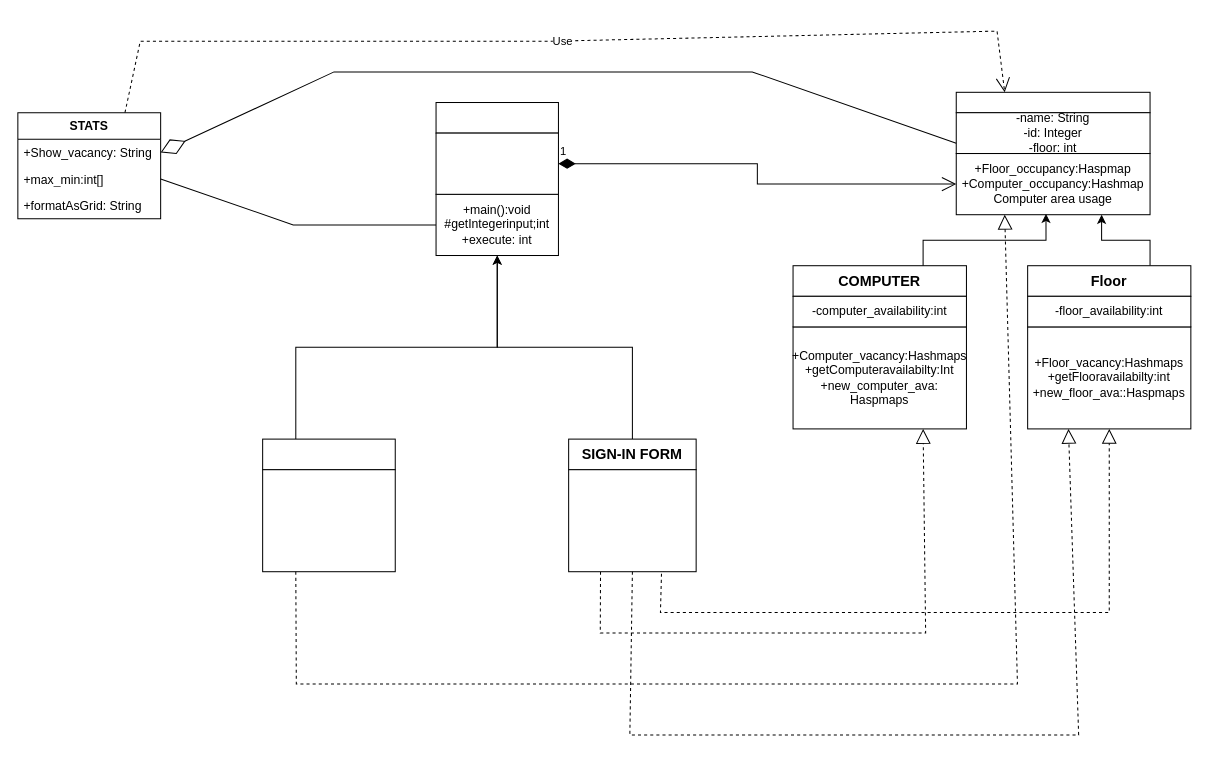
This 1209x767 diagram has some shape labels left out. The shapes that lost their labels are listed below. From the top down, each one's centre as x and y in pixels, then its label:
At (x=496, y=117): "MENU".
At (x=1052, y=102): "DATA".
At (x=496, y=163): "#info1:Arraylist #info2:Arraylist #info3:Arraylist".
At (x=328, y=454): "SIGN-OUT FORM".
At (x=328, y=520): "+execute:Integer[] ++findUserfloor:floor".
At (x=632, y=520): "+execute: Integer[] +AskforComputerUsage: boolean".
